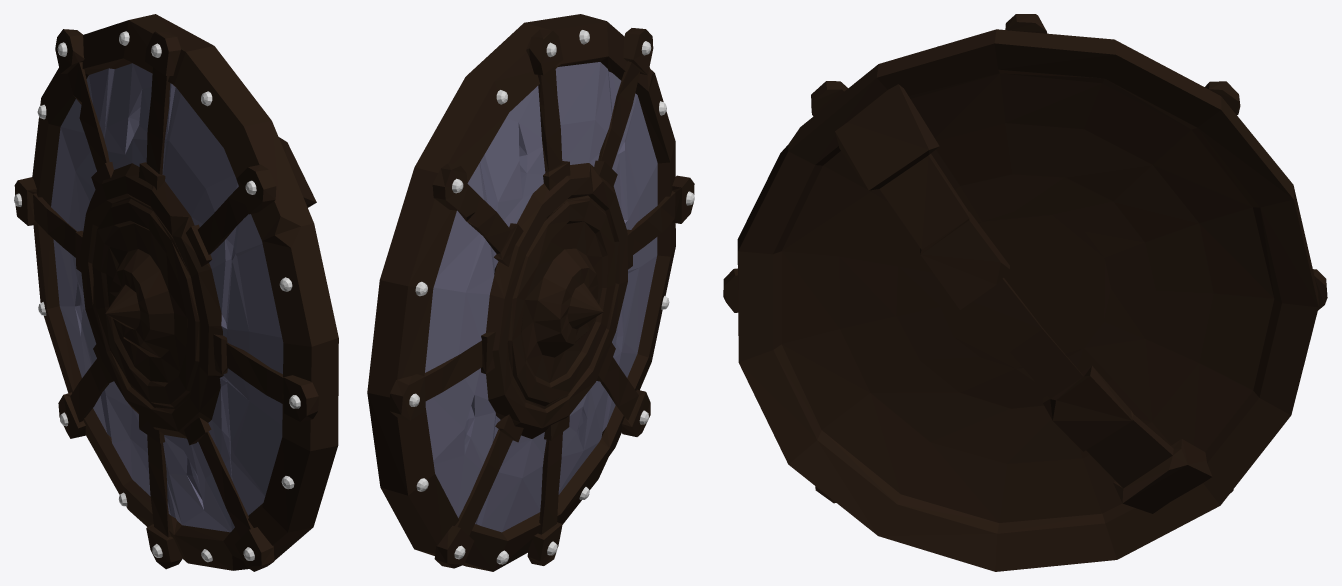
Rendered from SFFA_Shield_Wooden_002.fbx.
3 views of the same model, side by side, from view 1: azimuth 30°, elevation 25°; view 2: azimuth 150°, elevation 25°; view 3: azimuth 270°, elevation 25° (orthographic). The views are drawn at different scales.
Visible parts, largest first — view 1: SFFA_Shield_Wooden_002; view 2: SFFA_Shield_Wooden_002; view 3: SFFA_Shield_Wooden_002.
Boxes of the visible parts, x1,y1,x2,y2 form: SFFA_Shield_Wooden_002: (14, 14, 338, 571); SFFA_Shield_Wooden_002: (367, 14, 694, 571); SFFA_Shield_Wooden_002: (723, 14, 1327, 571).
Size of the model in its own units: 24.63 by 72.8 by 72.76.
